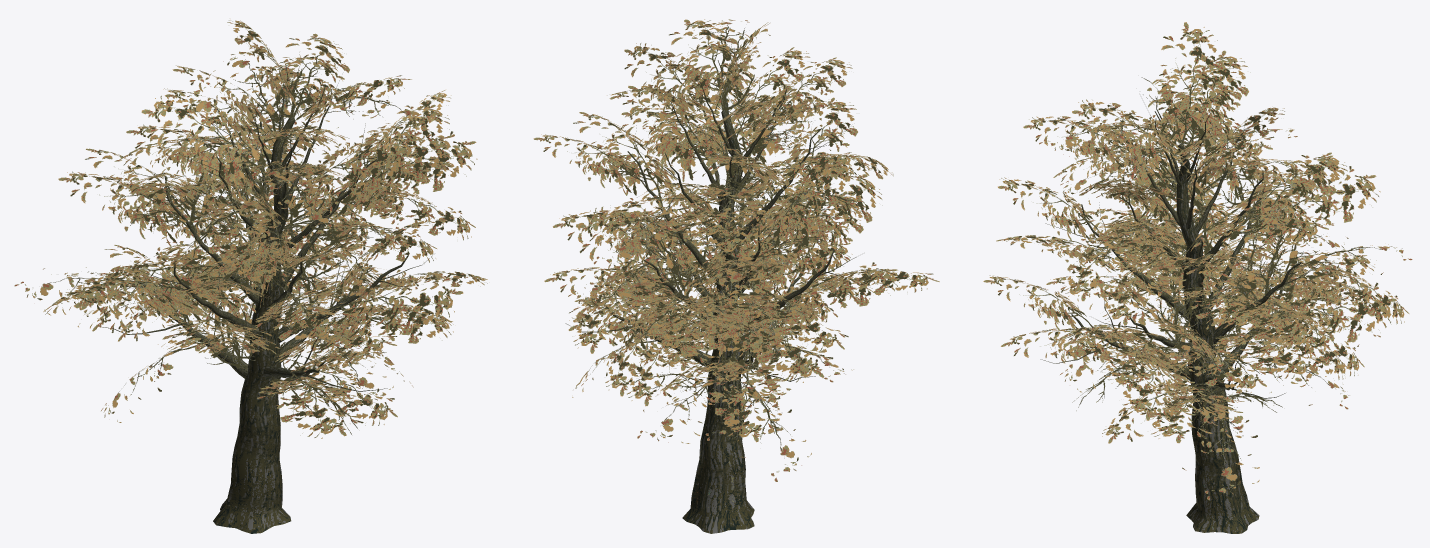
The model's file is tree_large.fbx.
3 renders of one model, left to right at view 1: azimuth 30°, elevation 25°; view 2: azimuth 150°, elevation 25°; view 3: azimuth 270°, elevation 25°, orthographic. The views are drawn at different scales.
Parts seen in each view (by area): view 1: leafplanes_10_4; view 2: leafplanes_10_4; view 3: leafplanes_10_4.
Boxes of the visible parts, x1=… form: leafplanes_10_4: x1=14, y1=20, x2=487, y2=533; leafplanes_10_4: x1=533, y1=19, x2=939, y2=533; leafplanes_10_4: x1=983, y1=22, x2=1412, y2=533.
Bounding box in the file's own units: 644 × 779 × 636.
